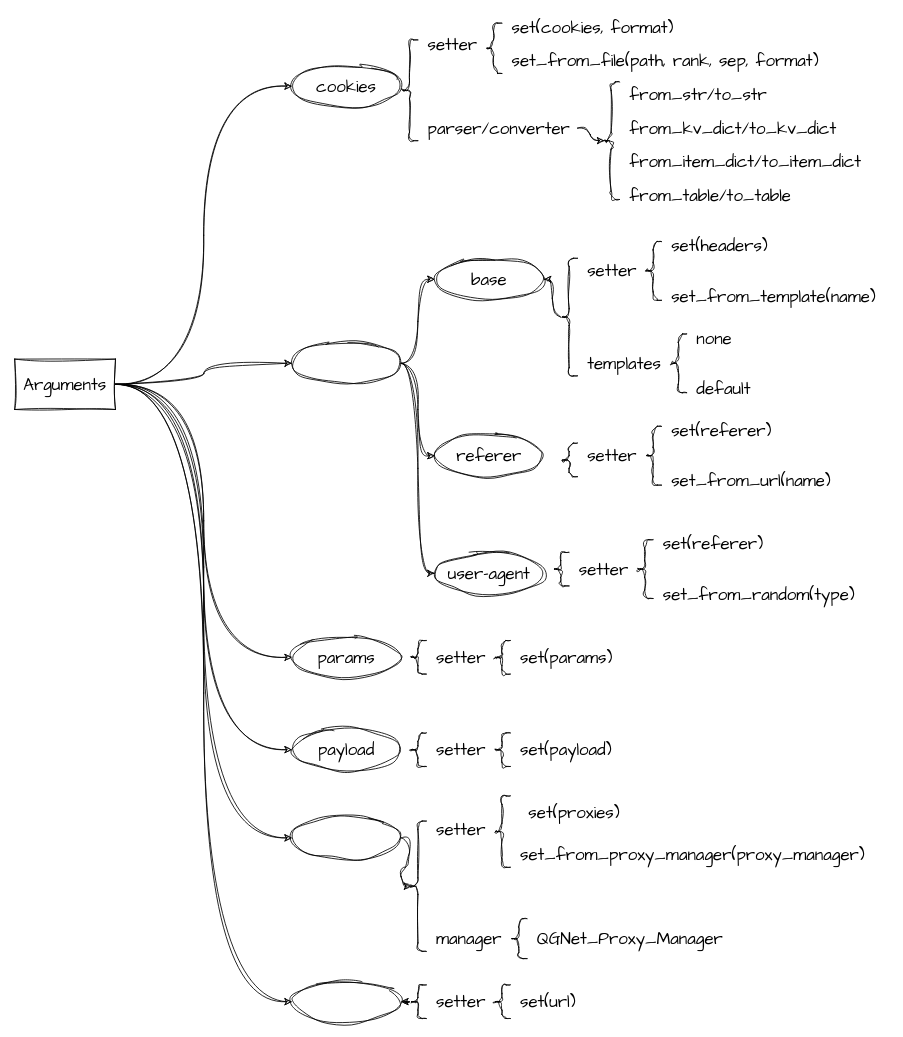
The diagram is 903 pixels wide and 1037 high, and some of its shapes have lost their labels. Here are the shapes that lost their labels. From the top down, the centre of each, then its label:
At (346,362): "headers".
At (346,837): "proxies".
At (346,1001): "url".
